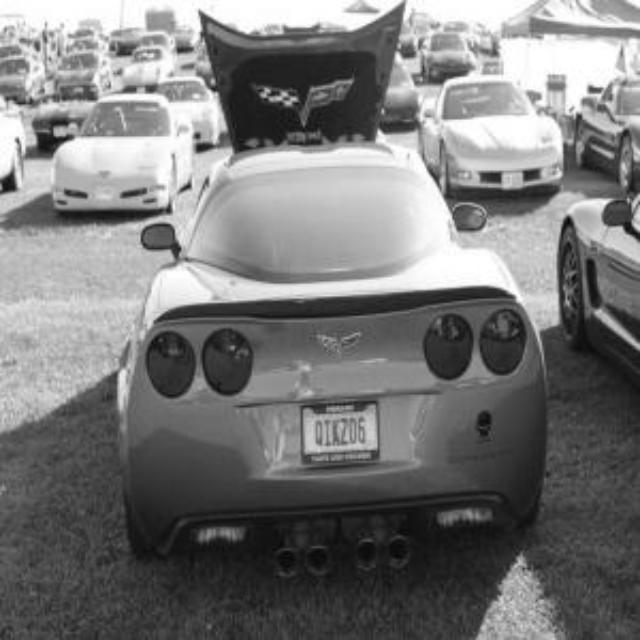License Plate: (302, 401, 380, 464)
